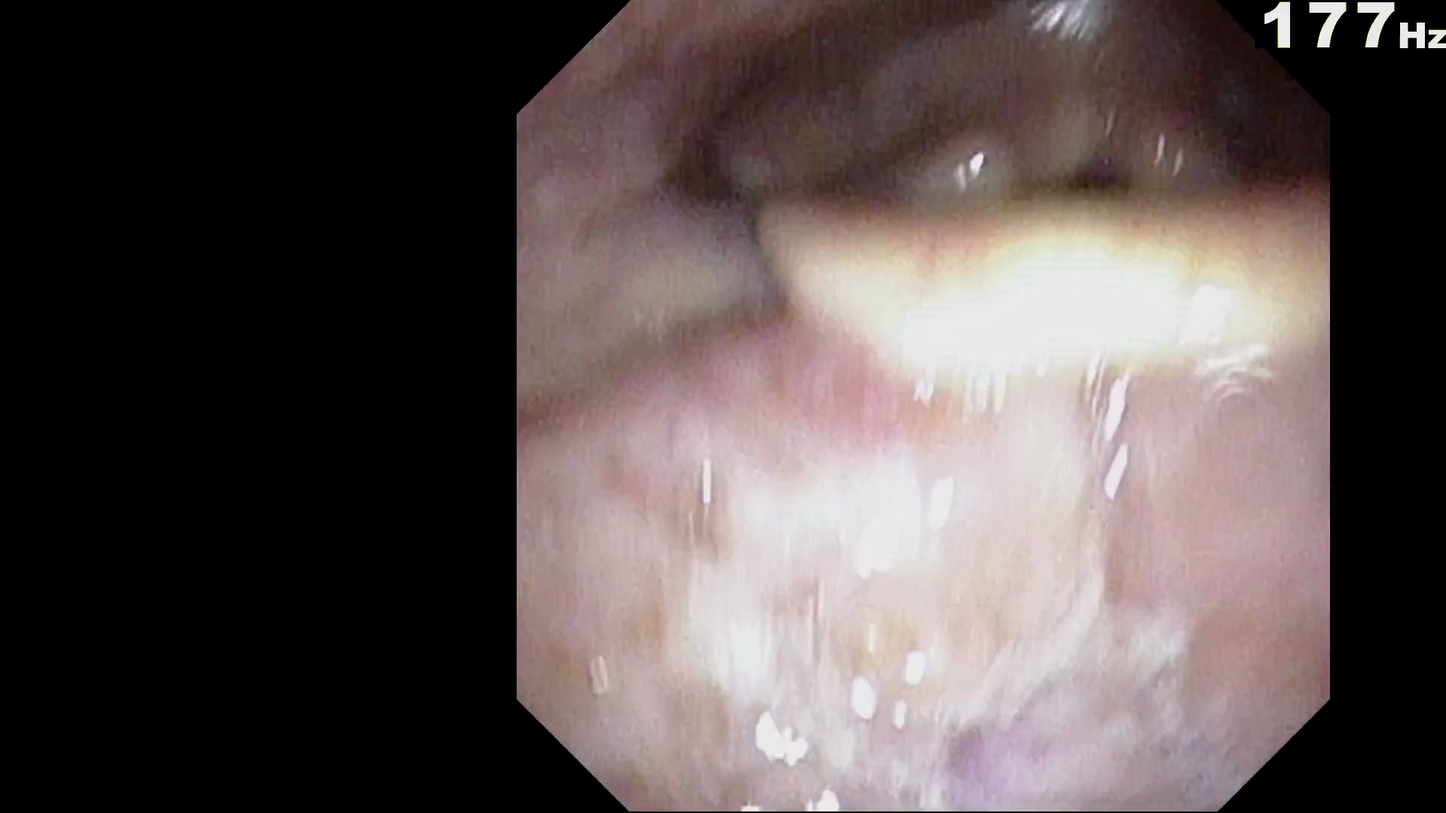epiglottis: (740, 228, 1313, 509)
trachea: (988, 166, 1135, 320)
